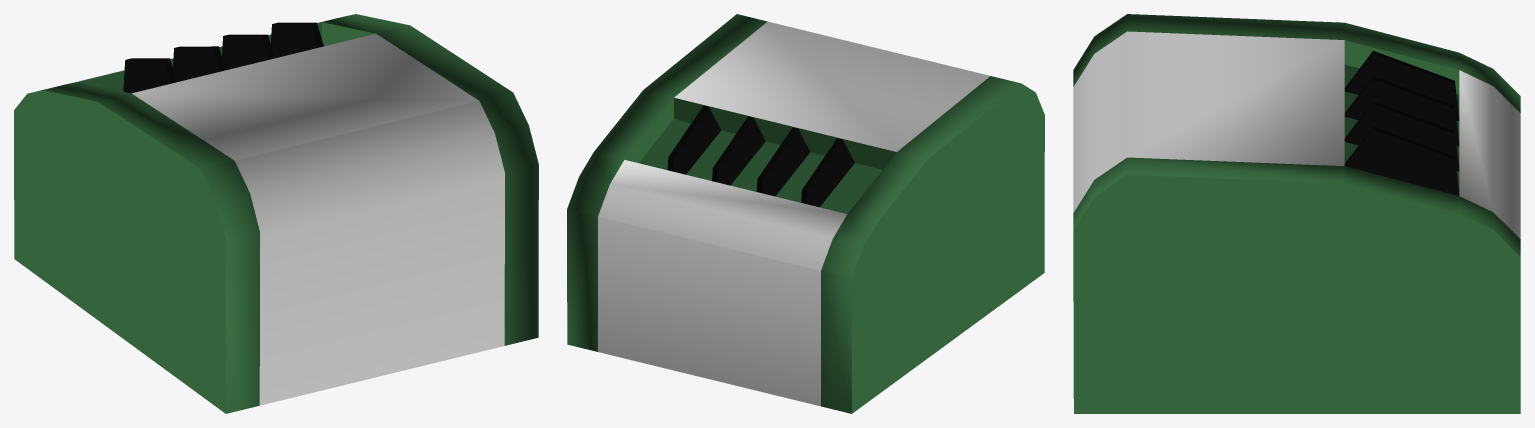
The model's file is Cash Counter.fbx.
The picture shows the model from 3 angles, left to right: view 1: azimuth 30°, elevation 25°; view 2: azimuth 150°, elevation 25°; view 3: azimuth 270°, elevation 25°; orthographic projection. The views are drawn at different scales.
Visible parts, largest first — view 1: Node 0; view 2: Node 0; view 3: Node 0.
Part boxes in pixels (box(x1,y1,x2,y2)): Node 0: box(14, 14, 538, 413); Node 0: box(567, 14, 1044, 413); Node 0: box(1073, 14, 1520, 413).
Size of the model in its own units: 0.1963 by 0.1178 by 0.167.
